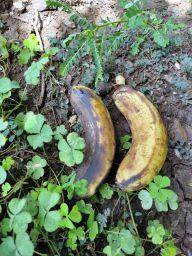banana: (111, 84, 169, 193), (66, 84, 116, 197)
